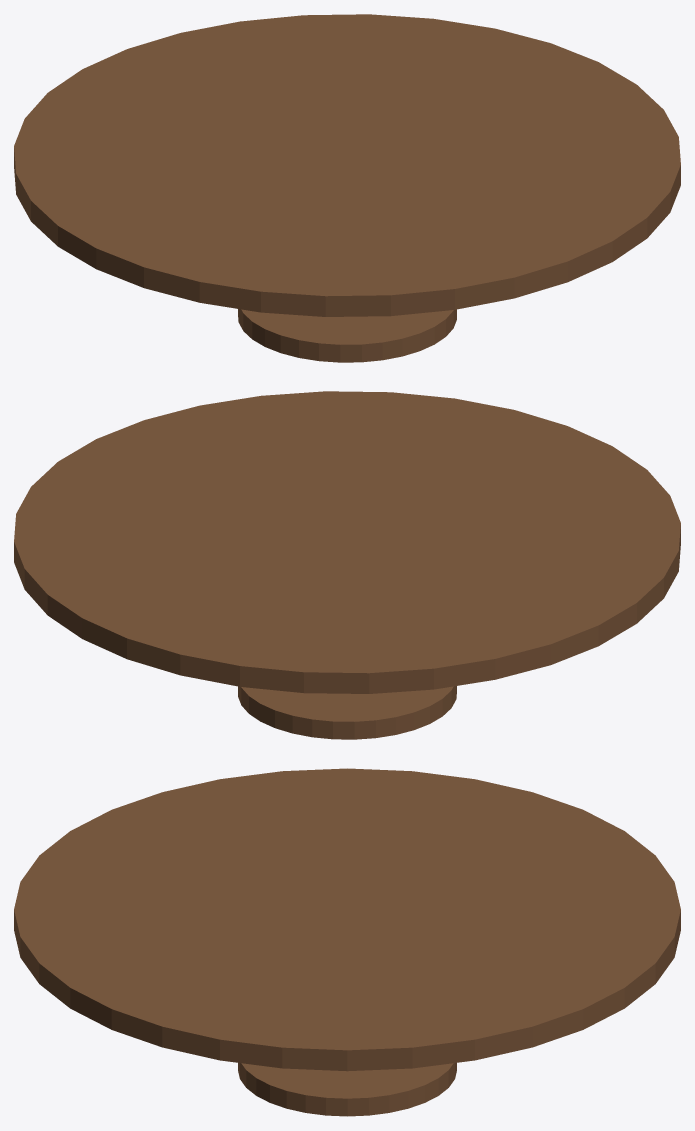
Rendered from BanTron.fbx.
The picture shows the model from 3 angles, top to bottom: view 1: azimuth 30°, elevation 25°; view 2: azimuth 150°, elevation 25°; view 3: azimuth 270°, elevation 25°; orthographic projection.
Visible parts, largest first — view 1: BanTron; view 2: BanTron; view 3: BanTron.
Part boxes in pixels (<box>): BanTron: <box>14,14,680,362</box>; BanTron: <box>14,391,680,739</box>; BanTron: <box>14,768,680,1116</box>.
Size of the model in its own units: 159 by 42.31 by 159.
